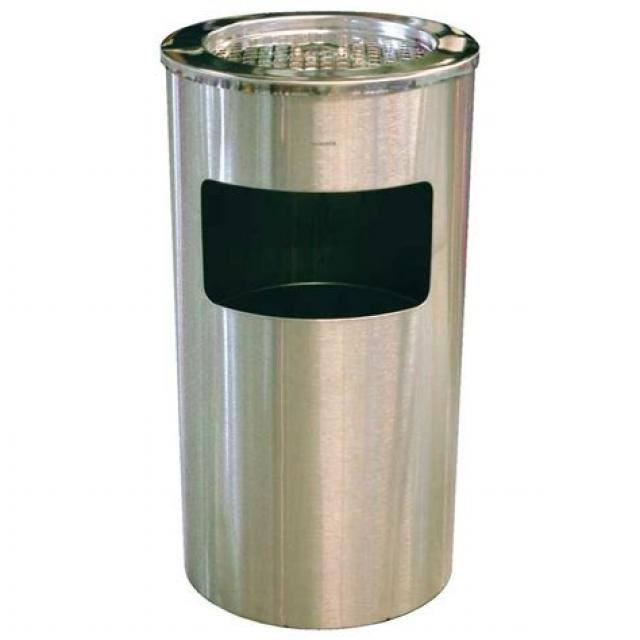garbage container: (150, 0, 504, 632)
